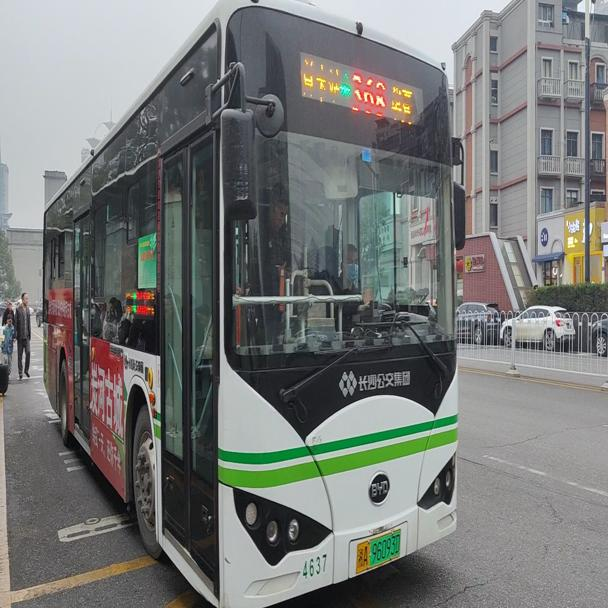screen: (349, 65, 387, 121)
